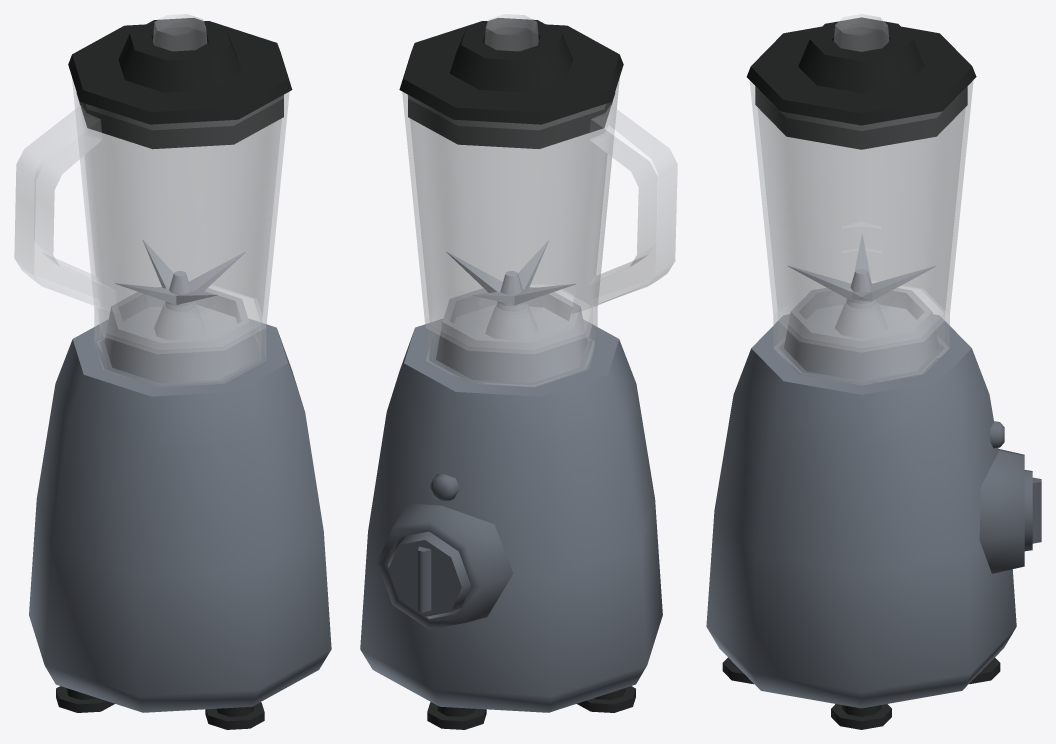
File: Blender.glb
The picture shows the model from 3 angles, left to right: view 1: azimuth 30°, elevation 25°; view 2: azimuth 150°, elevation 25°; view 3: azimuth 270°, elevation 25°; orthographic projection.
Parts seen in each view (by area): view 1: appliance_blender_.001_Cylinder.128, appliance_blender_container_Cylinder.130, appliance_blender_lid_Cylinder.129; view 2: appliance_blender_.001_Cylinder.128, appliance_blender_container_Cylinder.130, appliance_blender_lid_Cylinder.129, appliance_blender_knob_Cylinder.131; view 3: appliance_blender_.001_Cylinder.128, appliance_blender_container_Cylinder.130, appliance_blender_lid_Cylinder.129, appliance_blender_knob_Cylinder.131.
Boxes of the visible parts, x1,y1,x2,y2 form: appliance_blender_.001_Cylinder.128: (29,287,331,729); appliance_blender_container_Cylinder.130: (14,78,289,387); appliance_blender_lid_Cylinder.129: (68,14,292,149); appliance_blender_.001_Cylinder.128: (360,287,662,729); appliance_blender_container_Cylinder.130: (402,78,677,386); appliance_blender_lid_Cylinder.129: (399,14,623,148); appliance_blender_knob_Cylinder.131: (388,531,470,616); appliance_blender_.001_Cylinder.128: (706,288,1024,729); appliance_blender_container_Cylinder.130: (750,80,973,385); appliance_blender_lid_Cylinder.129: (746,14,976,149); appliance_blender_knob_Cylinder.131: (1024,470,1041,551).
Bounding box in the file's own units: 4.4 × 9.43 × 4.43.
2 materials, 2 textured.
